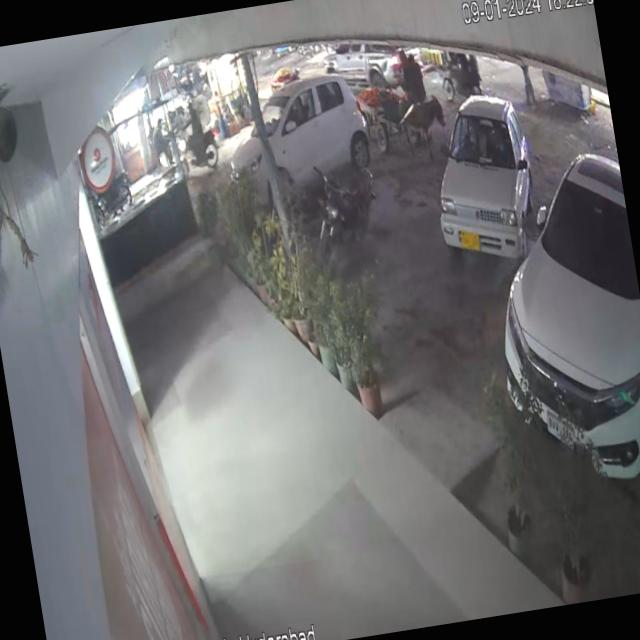Car: (464, 103, 640, 508), (421, 65, 552, 294), (195, 55, 379, 202)
Motorcycle: (306, 147, 386, 266)
